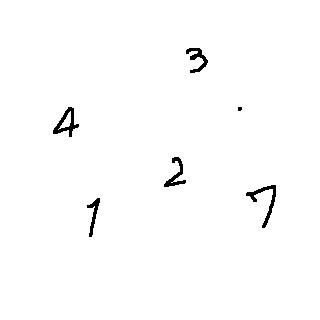.: (232, 97, 251, 118)
1: (86, 191, 105, 241)
2: (157, 147, 194, 197)
3: (183, 44, 211, 83)
4: (46, 104, 86, 148)
7: (238, 176, 287, 233)
